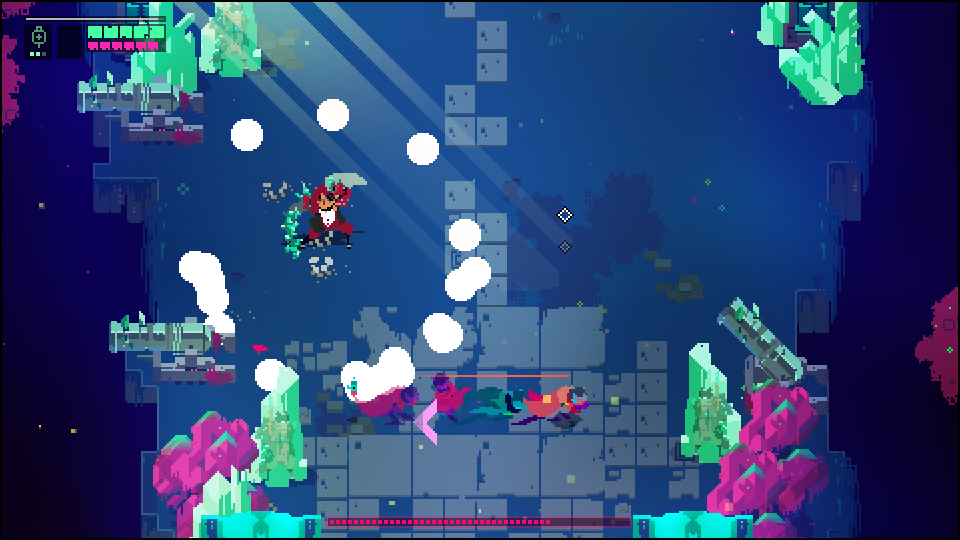hanged_man: (283, 171, 371, 260)
player: (518, 381, 590, 415)
